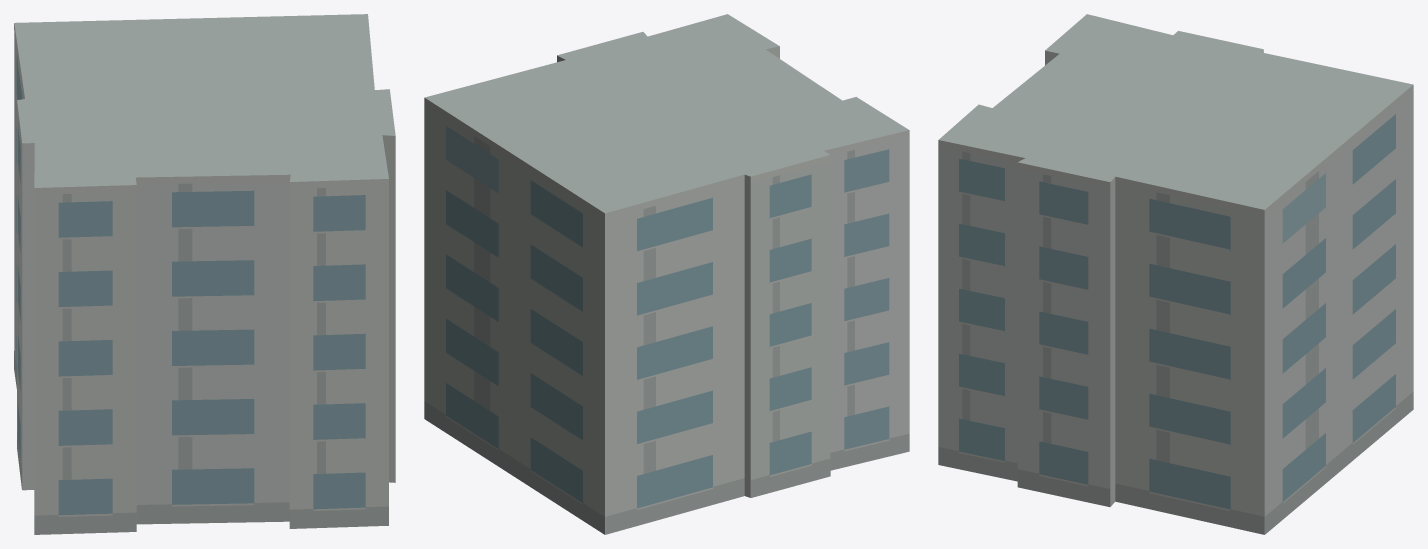
File: survey-upis-32727975.glb
3 renders of one model, left to right at view 1: azimuth 30°, elevation 25°; view 2: azimuth 150°, elevation 25°; view 3: azimuth 270°, elevation 25°, orthographic. The views are drawn at different scales.
Parts seen in each view (by area): view 1: survey-upis-32727975.tmp; view 2: survey-upis-32727975.tmp; view 3: survey-upis-32727975.tmp.
Boxes of the visible parts, x1,y1,x2,y2 form: survey-upis-32727975.tmp: (14, 14, 395, 534); survey-upis-32727975.tmp: (424, 14, 909, 534); survey-upis-32727975.tmp: (938, 14, 1413, 534).
Size of the model in its own units: 15.65 by 12.1 by 16.04.
